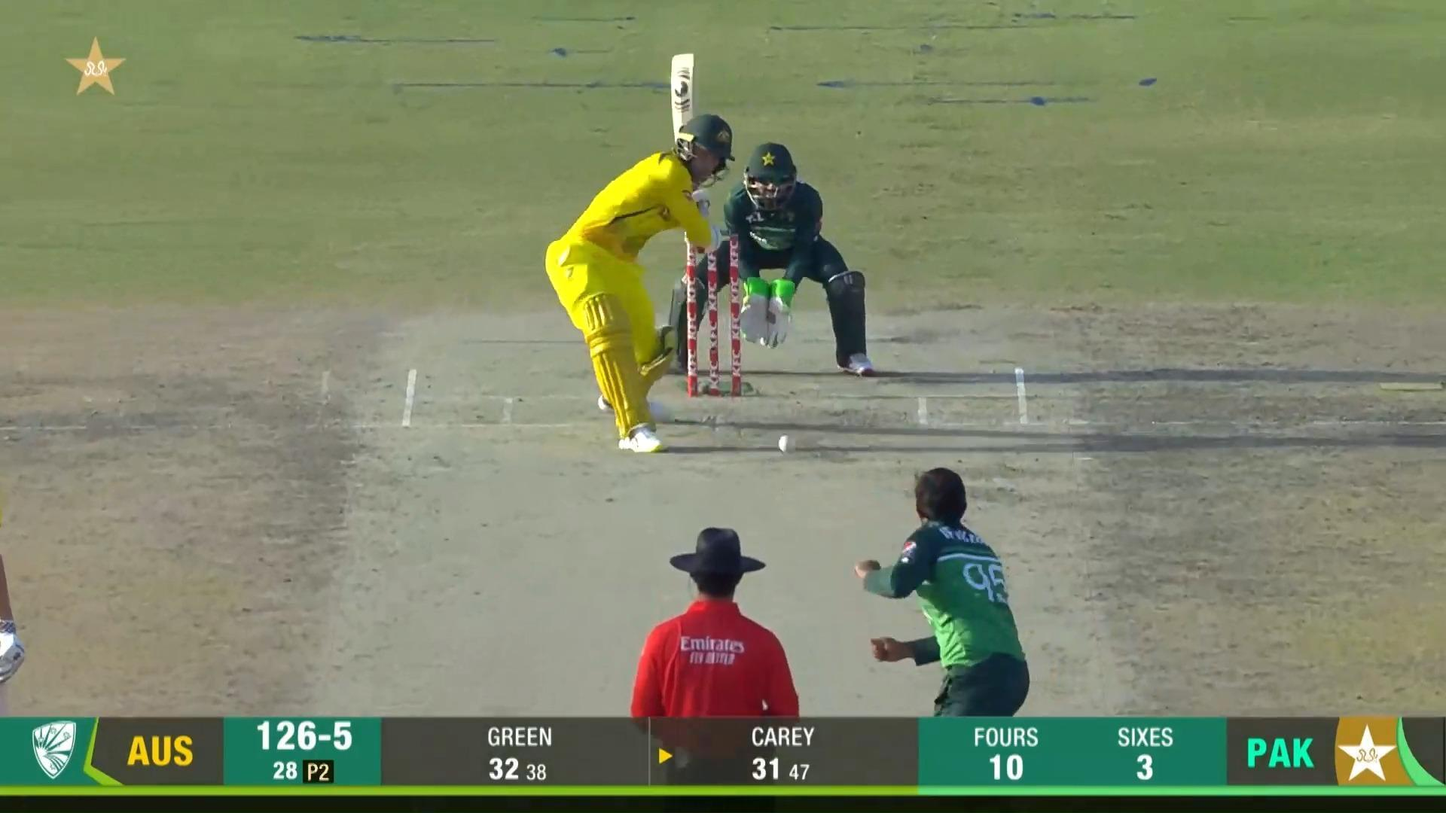BM 1: (545, 52, 738, 454)
BO: (851, 463, 1036, 813)
